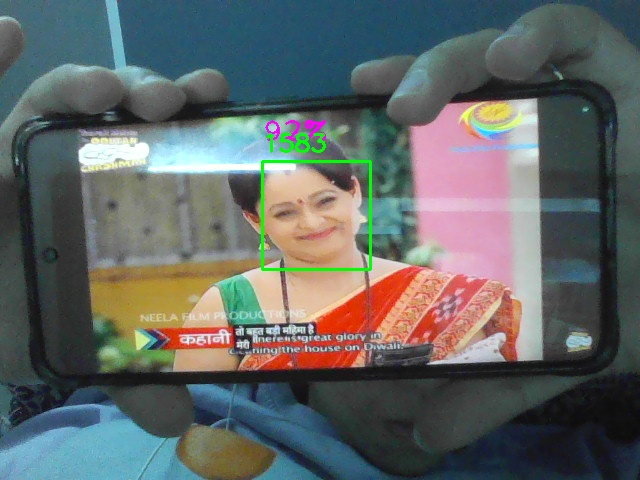fake: (262, 161, 371, 270)
